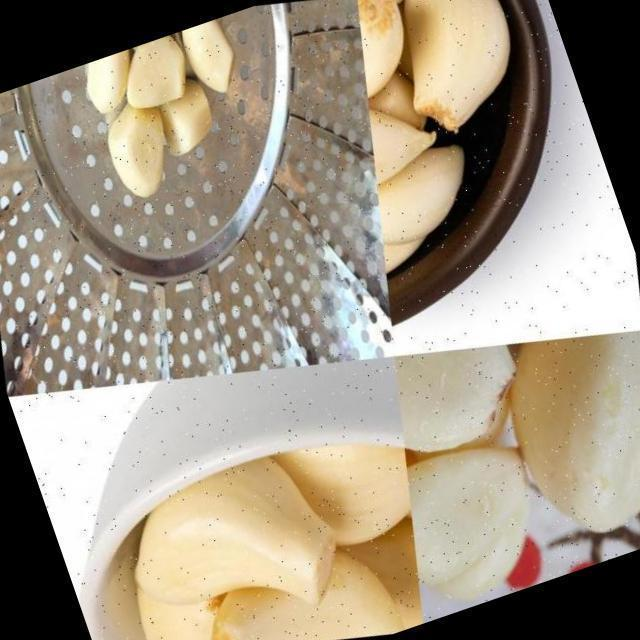garlic: (76, 367, 463, 640), (340, 278, 640, 622), (26, 12, 288, 246), (370, 0, 549, 158), (349, 108, 502, 264), (332, 0, 441, 119)
